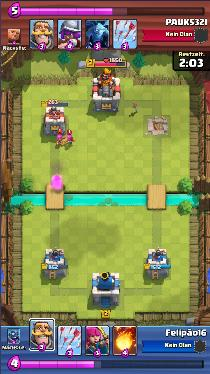enemy_archer: (54, 135, 65, 147), (66, 135, 75, 148)
